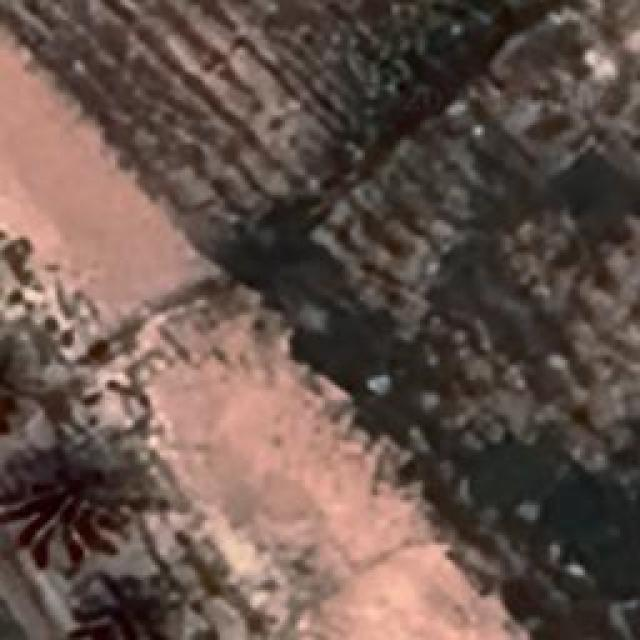PalmTree: (12, 448, 118, 564), (79, 575, 169, 640), (0, 322, 36, 449)
